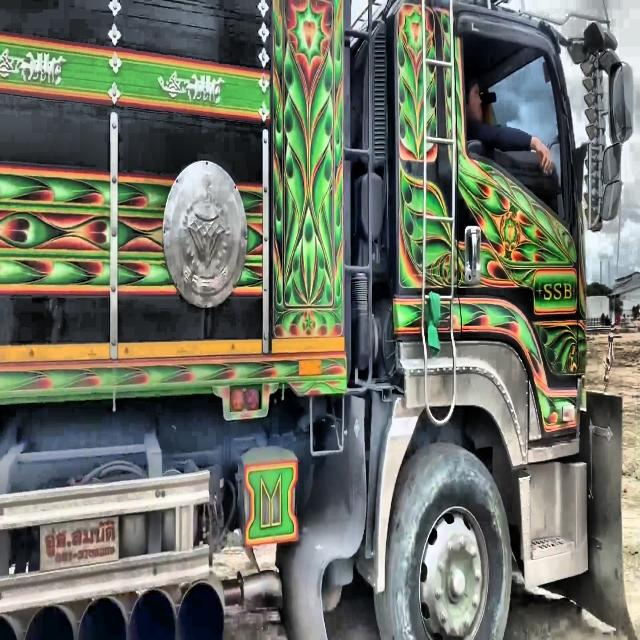trailer: (0, 0, 592, 636)
